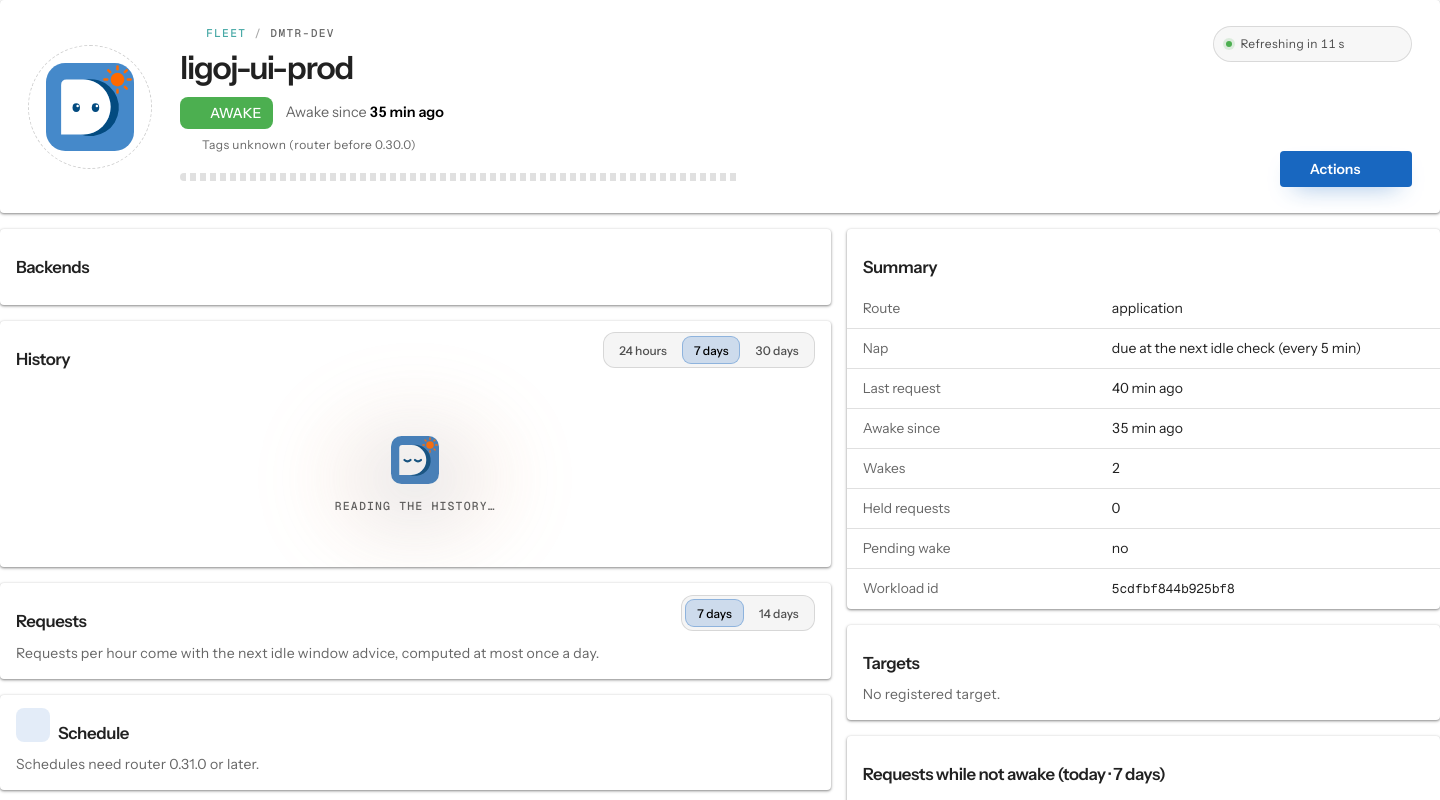
Workload view › groups its actions in one menu on the right of its header: wake, nap, pause, rename, exclude, offboard (user request)
The image size is (1440, 800).
Click the button with test id "actions": [1346, 169] box [1280, 151, 1412, 187]
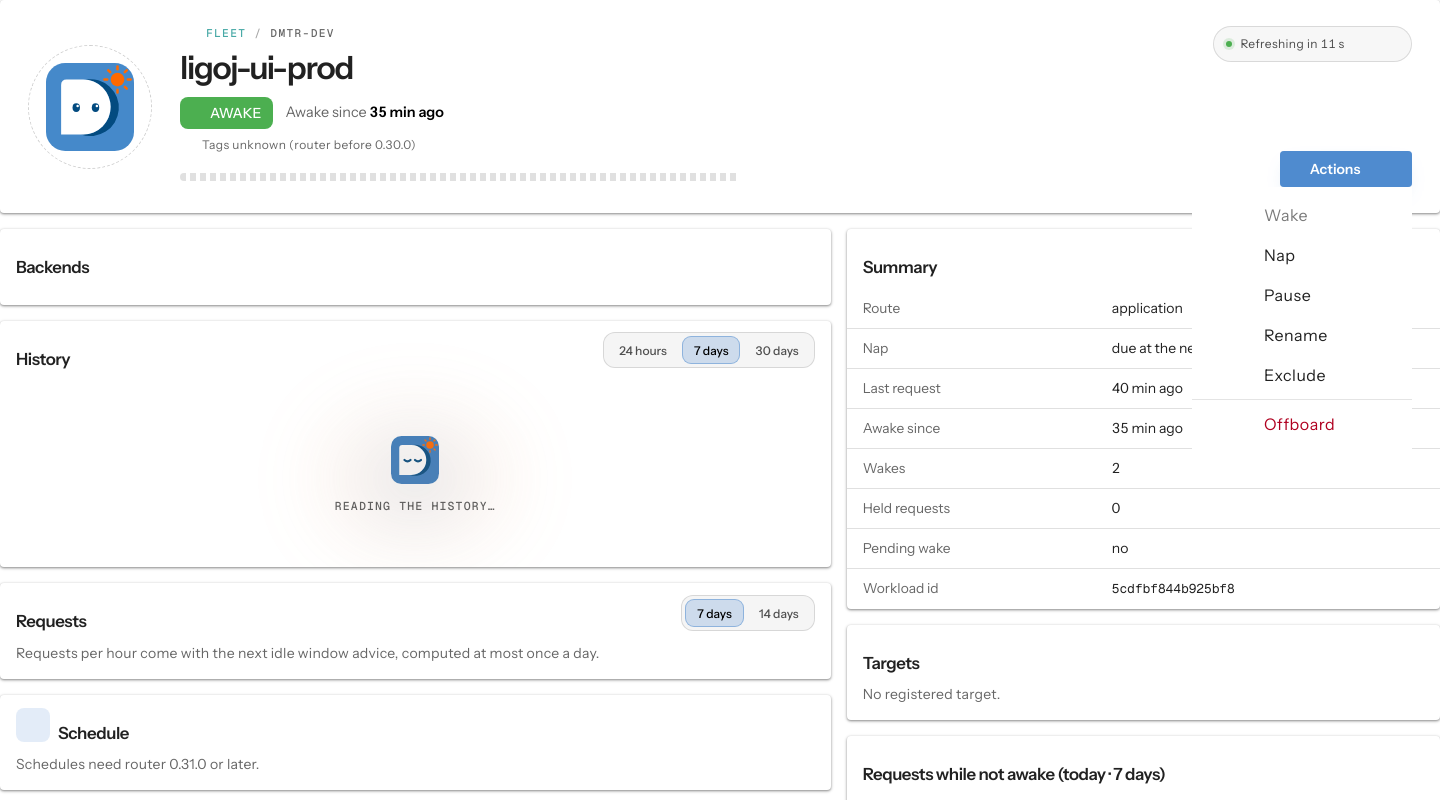
Click the list item with test id "action" showing "Nap": [1280, 255] box [1264, 245, 1296, 265]
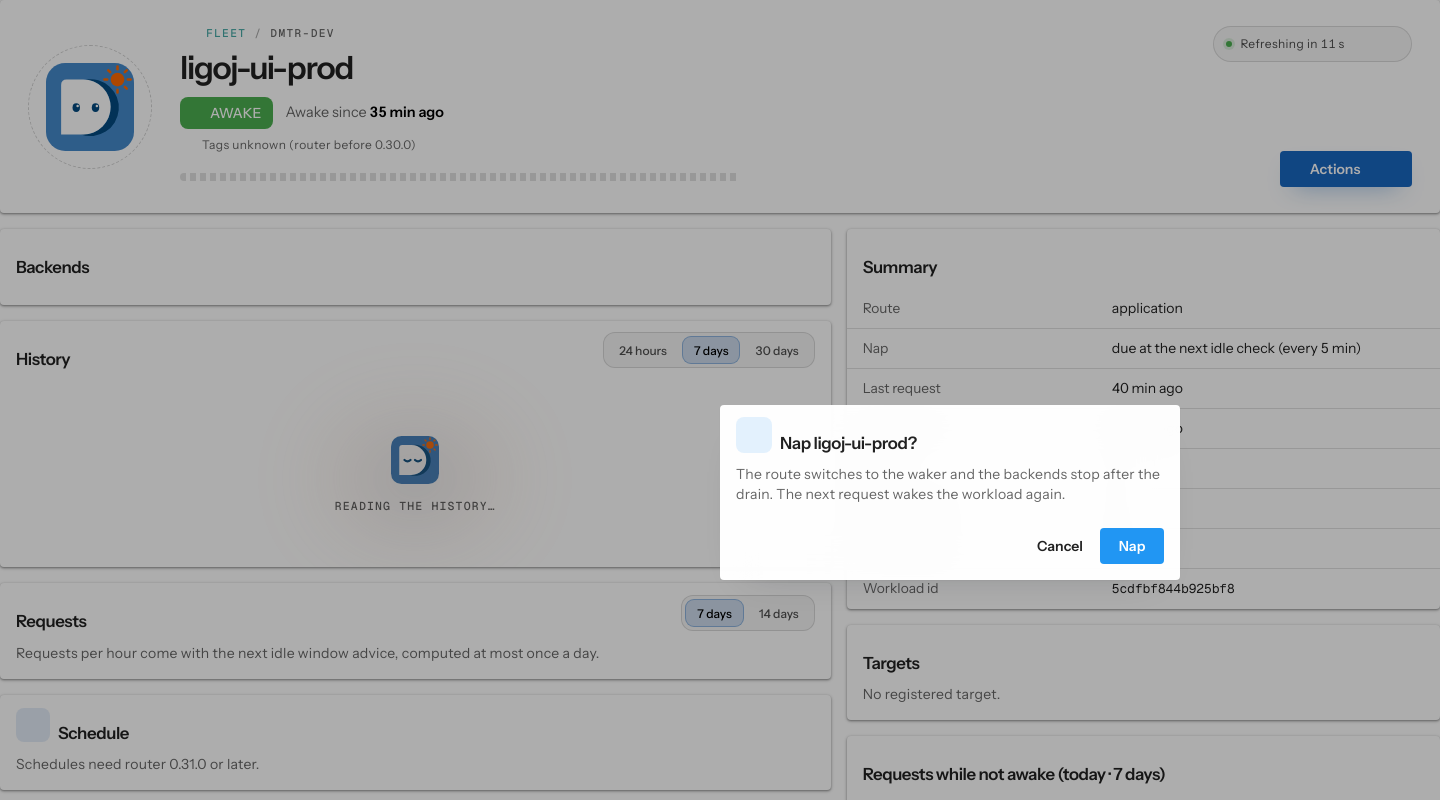
Expected: the text "Nap ligoj-ui-prod?" is shown, [780, 433, 917, 453]
